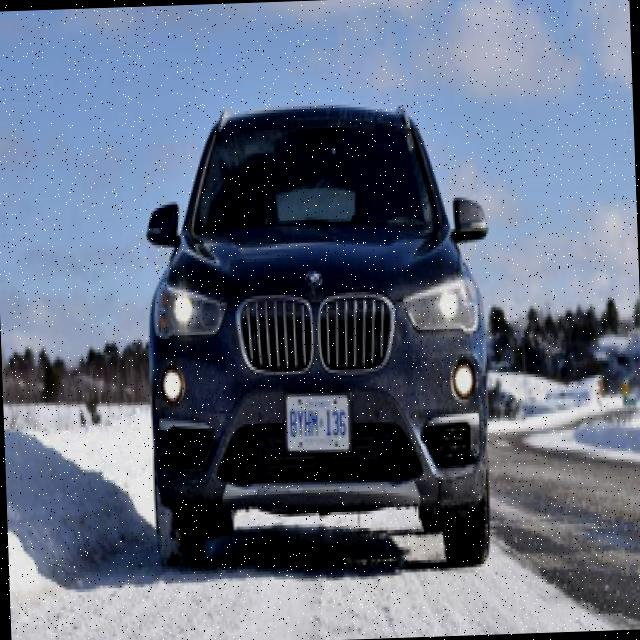Autre: (284, 394, 350, 452)
